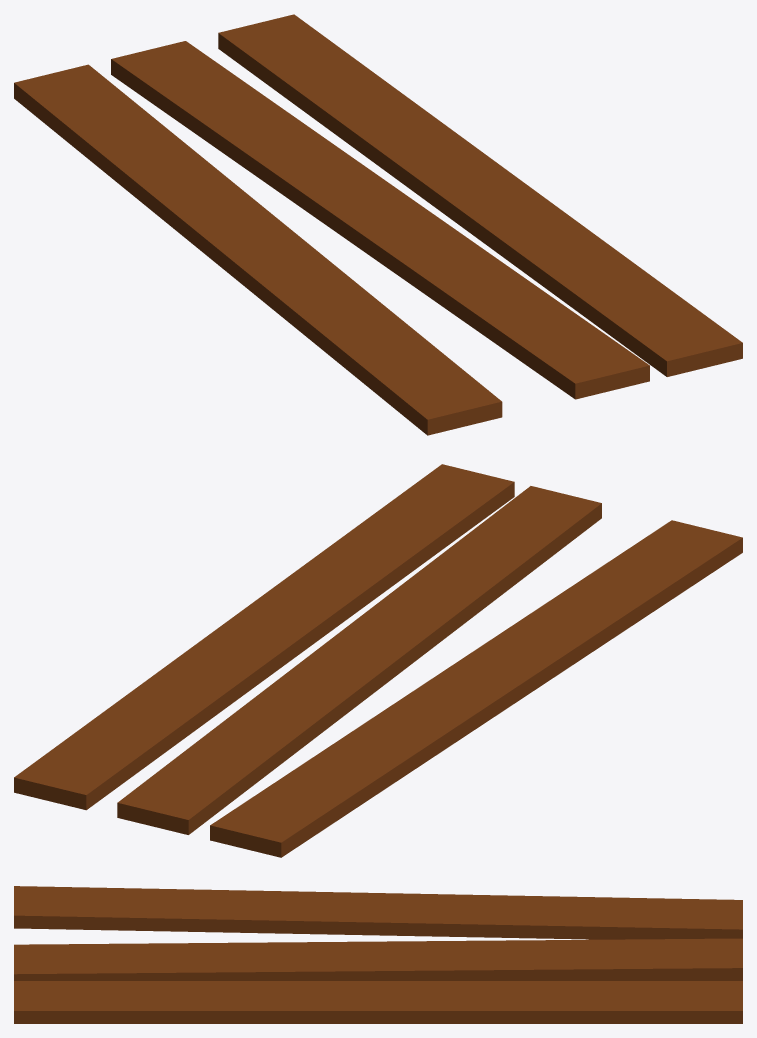
File: 2mForestFence.fbx
3 views of the same model, one above another, from view 1: azimuth 30°, elevation 25°; view 2: azimuth 150°, elevation 25°; view 3: azimuth 270°, elevation 25° (orthographic). The views are drawn at different scales.
Visible parts, largest first — view 1: 2mForestFence; view 2: 2mForestFence; view 3: 2mForestFence.
Boxes of the visible parts, x1,y1,x2,y2 form: 2mForestFence: [14, 14, 742, 435]; 2mForestFence: [14, 464, 742, 857]; 2mForestFence: [14, 886, 742, 1023].
Bounding box in the file's own units: 81.15 × 3.9 × 200.
